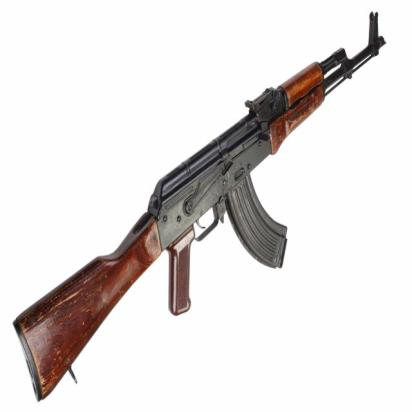Gun: (12, 11, 386, 396)
